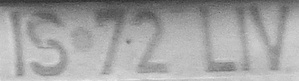/: (88, 4, 129, 81)
2: (129, 7, 170, 78)
I: (3, 5, 31, 79), (233, 2, 255, 75)
L: (196, 2, 238, 77)
S: (27, 5, 68, 81)
V: (250, 2, 292, 75)
